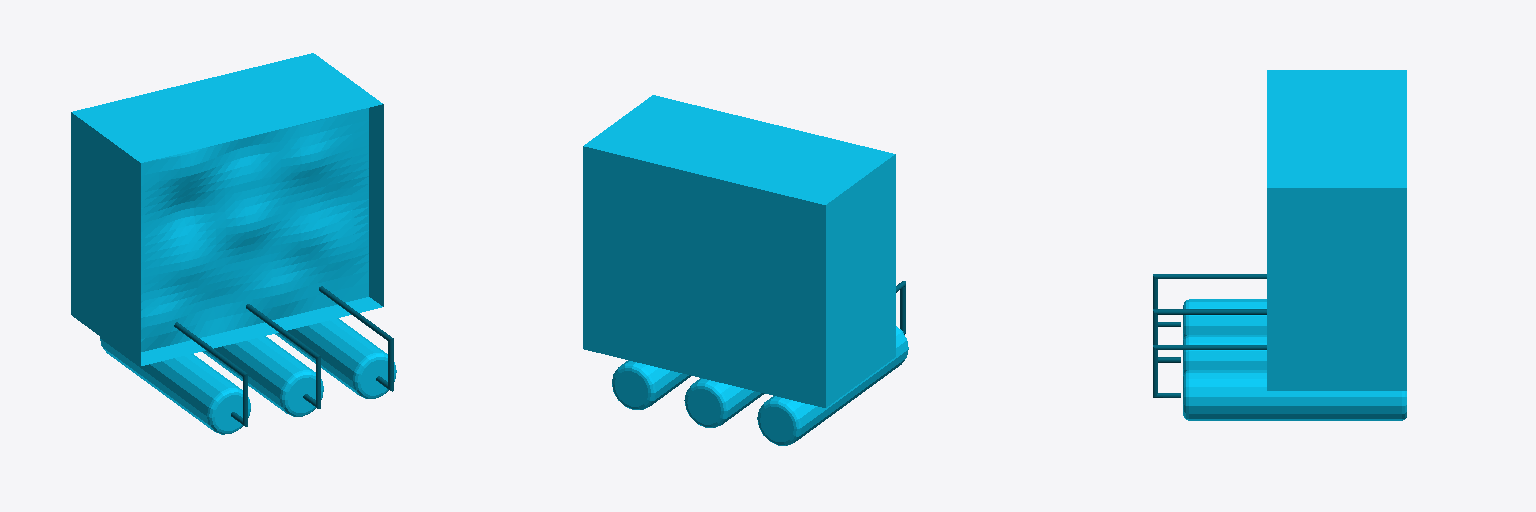
File: shuiyuan.obj
The picture shows the model from 3 angles: view 1: azimuth 30°, elevation 25°; view 2: azimuth 150°, elevation 25°; view 3: azimuth 270°, elevation 25°; orthographic projection.
Visible parts, largest first — view 1: water, outbox, zhuzi, guanzi; view 2: outbox, zhuzi; view 3: outbox, zhuzi, guanzi.
Part boxes in pixels (x1,y1,x2,y2): water: (141,108,368,351); outbox: (71,53,383,365); zhuzi: (100,318,396,434); guanzi: (174,286,393,426); outbox: (583,95,895,407); zhuzi: (612,326,908,445); outbox: (1267,70,1406,390); zhuzi: (1183,299,1406,420); guanzi: (1153,274,1266,397).
Bounding box in the file's own units: 50 × 50 × 45.51.